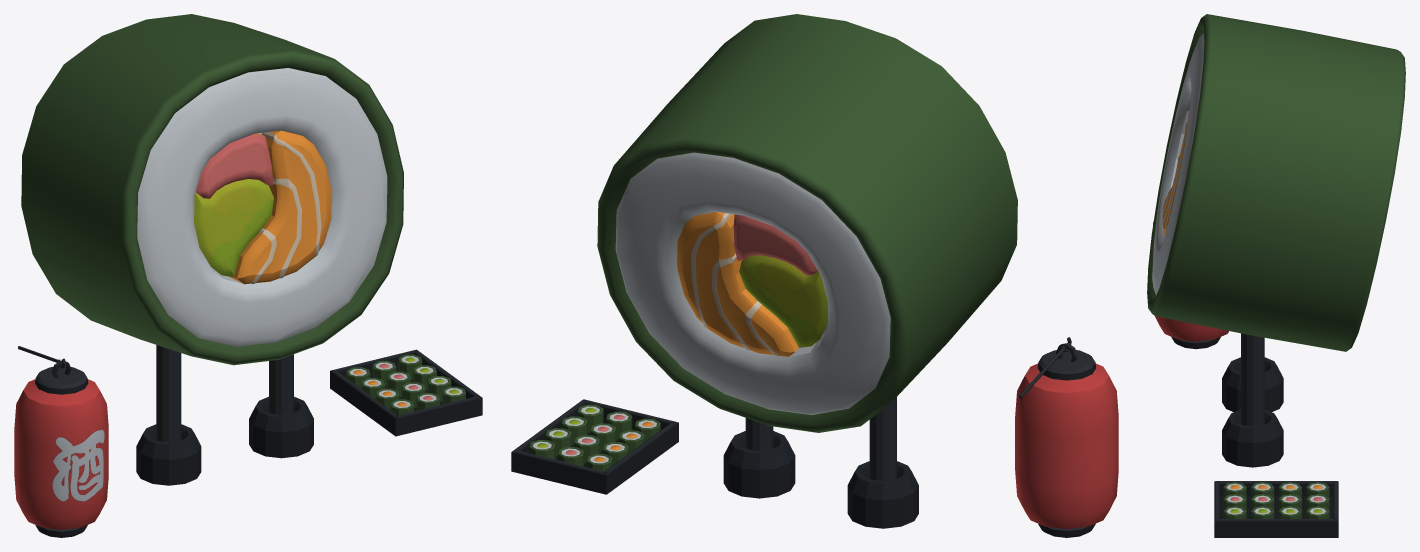
Rendered from sushiStallProps.fbx.
3 renders of one model, left to right at view 1: azimuth 30°, elevation 25°; view 2: azimuth 150°, elevation 25°; view 3: azimuth 270°, elevation 25°, orthographic. The views are drawn at different scales.
Visible parts, largest first — view 1: bigSushi, lantern, sushiTray; view 2: bigSushi, lantern, sushiTray; view 3: bigSushi, sushiTray, lantern.
Boxes of the visible parts, x1,y1,x2,y2 form: bigSushi: (21,14,403,485); lantern: (14,346,108,537); sushiTray: (330,349,482,436); bigSushi: (597,14,1017,528); lantern: (1015,337,1118,537); sushiTray: (511,399,678,494); bigSushi: (1147,14,1405,467); sushiTray: (1214,481,1338,537); lantern: (1153,222,1228,349).
Size of the model in its own units: 731 by 623 by 367.
